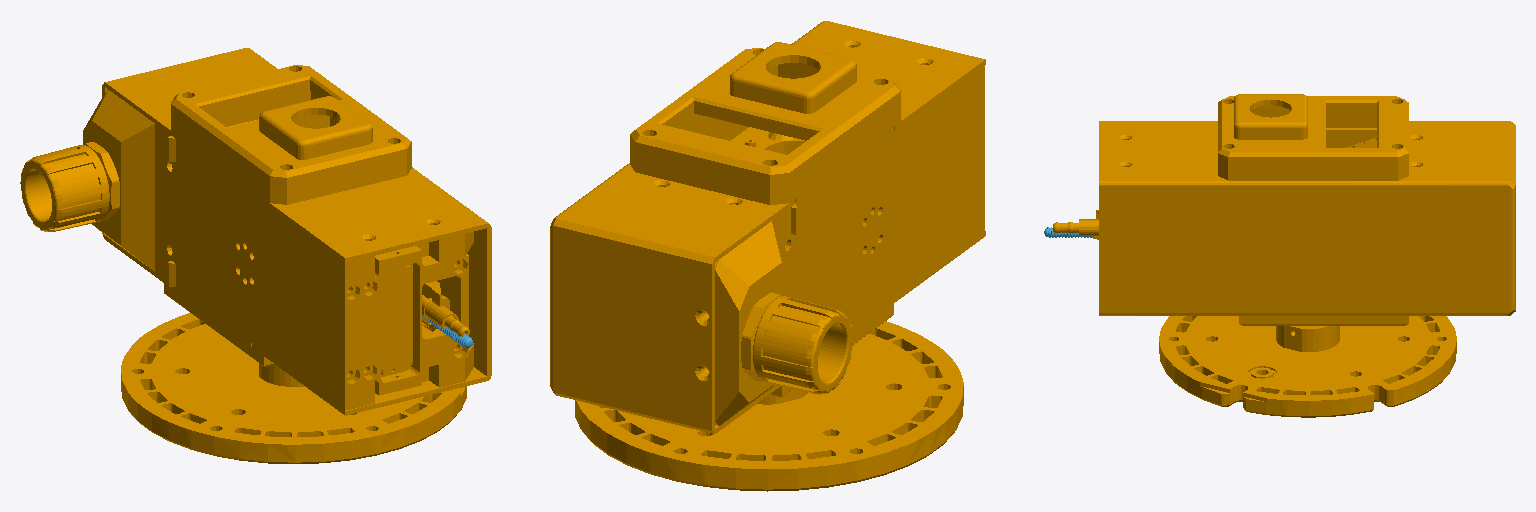
The robot description file, URDF, robot "meca_with_tool":
<?xml version="1.0" ?>
<!-- =================================================================================== -->
<!-- |    This document was autogenerated by xacro from meca_with_tool.xacro           | -->
<!-- |    EDITING THIS FILE BY HAND IS NOT RECOMMENDED                                 | -->
<!-- =================================================================================== -->
<robot name="meca_with_tool">
<link name="meca_box_link">
        <visual>
            <origin rpy="1.57079 0 0" xyz="-0.238 0.309 0" /> <!-- -0.4 0.3 0" -->
            <geometry>
                <mesh filename="package://meca_with_tool/meshes/visual/box_open_light.dae" scale="0.001 0.001 0.001" />
            </geometry>
        </visual>
        <collision>
            <origin rpy="1.57079 0 0" xyz="-0.238 0.309 0" />
            <geometry>
                <mesh filename="package://meca_with_tool/meshes/collision/box_open_light.stl" scale="0.001 0.001 0.001" />
            </geometry>
        </collision>
        
<inertial>
            <mass value="0.1" />
            <inertia ixx="0.03" iyy="0.03" izz="0.03" ixy="0.0" ixz="0.0" iyz="0.0" />
        </inertial>

    </link>
     <joint name="meca_box_joint" type="fixed">
    <parent link="meca_box_link" />
    <child link="meca_base_link" /> <!-- TODO: check base_link name of robot -->
    <origin xyz="0.0 0.0 0.0" rpy="0.0 0.0 0.0" />
  </joint>
    <!-- Base link is the center of the robot's bottom plate -->
    <link name="meca_base_link">
        <visual>
            <origin rpy="0 0 0" xyz="0 0 0" />
            <geometry>
                <mesh filename="package://meca_with_tool/meshes/visual/meca_500_r3_base.dae" />
            </geometry>
        </visual>
        <collision>
            <origin rpy="0 0 0" xyz="0 0 0" />
            <geometry>
                <mesh filename="package://meca_with_tool/meshes/collision/meca_500_r3_base_collision.stl" />
            </geometry>
        </collision>
        
<inertial>
            <mass value="0.1" />
            <inertia ixx="0.03" iyy="0.03" izz="0.03" ixy="0.0" ixz="0.0" iyz="0.0" />
        </inertial>

    </link>
    <!-- Joint 1 -->
    <link name="meca_axis_1_link">
        <visual>
            <origin rpy="0 0 0" xyz="0 0 0" />
            <geometry>
                <mesh filename="package://meca_with_tool/meshes/visual/meca_500_r3_j1.dae" />
            </geometry>
        </visual>
        <collision>
            <origin rpy="0 0 0" xyz="0 0 0" />
            <geometry>
                <mesh filename="package://meca_with_tool/meshes/collision/meca_500_r3_j1_collision.stl" />
            </geometry>
        </collision>
        
<inertial>
            <mass value="0.1" />
            <inertia ixx="0.03" iyy="0.03" izz="0.03" ixy="0.0" ixz="0.0" iyz="0.0" />
        </inertial>

    </link>
    <joint name="meca_axis_1_joint" type="revolute">
        <origin rpy="0 0 0" xyz="0.012498 0 0.091" />
        <parent link="meca_base_link" />
        <child link="meca_axis_1_link" />
        <axis xyz="0 0 1" />
        <limit effort="10.0" lower="-3.05433" upper="3.05433" velocity="2.61799" />
        <dynamics damping="1.0" />
    </joint>
    <!-- Joint 2 -->
    <link name="meca_axis_2_link">
        <visual>
            <origin rpy="0 0 0" xyz="0 0 0" />
            <geometry>
                <mesh filename="package://meca_with_tool/meshes/visual/meca_500_r3_j2.dae" />
            </geometry>
        </visual>
        <collision>
            <origin rpy="0 0 0" xyz="0 0 0" />
            <geometry>
                <mesh filename="package://meca_with_tool/meshes/collision/meca_500_r3_j2_collision.stl" />
            </geometry>
        </collision>
        
<inertial>
            <mass value="0.1" />
            <inertia ixx="0.03" iyy="0.03" izz="0.03" ixy="0.0" ixz="0.0" iyz="0.0" />
        </inertial>

    </link>
    <joint name="meca_axis_2_joint" type="revolute">
        <origin rpy="0 0 0" xyz="0 0 0.044" />
        <parent link="meca_axis_1_link" />
        <child link="meca_axis_2_link" />
        <axis xyz="0 1 0" />
        <limit effort="10.0" lower="-1.22173048" upper="1.5708" velocity="2.61799" />
        <dynamics damping="1.0" />
    </joint>
    <!-- Joint 3 -->
    <link name="meca_axis_3_link">
        <visual>
            <origin rpy="0 0 0" xyz="0 0 0" />
            <geometry>
                <mesh filename="package://meca_with_tool/meshes/visual/meca_500_r3_j3.dae" />
            </geometry>
        </visual>
        <collision>
            <origin rpy="0 0 0" xyz="0 0 0" />
            <geometry>
                <mesh filename="package://meca_with_tool/meshes/collision/meca_500_r3_j3_collision.stl" />
            </geometry>
        </collision>
        
<inertial>
            <mass value="0.05" />
            <inertia ixx="0.03" iyy="0.03" izz="0.03" ixy="0.0" ixz="0.0" iyz="0.0" />
        </inertial>

    </link>
    <joint name="meca_axis_3_joint" type="revolute">
        <origin rpy="0 0 0" xyz="0 0 0.135" />
        <parent link="meca_axis_2_link" />
        <child link="meca_axis_3_link" />
        <axis xyz="0 1 0" />
        <limit effort="10.0" lower="-2.35619" upper="1.22173048" velocity="3.14159" />
        <dynamics damping="1.0" />
    </joint>
    <!-- Joint 4 -->
    <link name="meca_axis_4_link">
        <visual>
            <origin rpy="0 0 0" xyz="0 0 0" />
            <geometry>
                <mesh filename="package://meca_with_tool/meshes/visual/meca_500_r3_j4.dae" />
            </geometry>
        </visual>
        <collision>
            <origin rpy="0 0 0" xyz="0 0 0" />
            <geometry>
                <mesh filename="package://meca_with_tool/meshes/collision/meca_500_r3_j4_collision.stl" />
            </geometry>
        </collision>
        
<inertial>
            <mass value="0.05" />
            <inertia ixx="0.03" iyy="0.03" izz="0.03" ixy="0.0" ixz="0.0" iyz="0.0" />
        </inertial>

    </link>
    <joint name="meca_axis_4_joint" type="revolute">
        <origin rpy="0 0 0" xyz="0 0 0.038" />
        <parent link="meca_axis_3_link" />
        <child link="meca_axis_4_link" />
        <axis xyz="1 0 0" />
        <limit effort="10.0" lower="-2.96706" upper="2.96706" velocity="5.23599" />
        <dynamics damping="1.0" />
    </joint>
    <!-- Joint 5 -->
    <link name="meca_axis_5_link">
        <visual>
            <origin rpy="0 0 0" xyz="0 0 0" />
            <geometry>
                <mesh filename="package://meca_with_tool/meshes/visual/meca_500_r3_j5.dae" />
            </geometry>
        </visual>
        <collision>
            <origin rpy="0 0 0" xyz="0 0 0" />
            <geometry>
                <mesh filename="package://meca_with_tool/meshes/collision/meca_500_r3_j5_collision.stl" />
            </geometry>
        </collision>
        
<inertial>
            <mass value="0.03" />
            <inertia ixx="0.03" iyy="0.03" izz="0.03" ixy="0.0" ixz="0.0" iyz="0.0" />
        </inertial>

    </link>
    <joint name="meca_axis_5_joint" type="revolute">
        <origin rpy="0 0 0" xyz="0.12 0 0" />
        <parent link="meca_axis_4_link" />
        <child link="meca_axis_5_link" />
        <axis xyz="0 1 0" />
        <limit effort="10.0" lower="-2.00713" upper="2.00713" velocity="5.23599" />
        <dynamics damping="1.0" />
    </joint>
    <!-- Joint 6 -->
    <link name="meca_axis_6_link">
        <visual>
            <origin rpy="0 0 0" xyz="0 0 0" />
            <geometry>
                <mesh filename="package://meca_with_tool/meshes/visual/meca_500_r3_j6.dae" />
            </geometry>
        </visual>
        <collision>
            <origin rpy="0 0 0" xyz="0 0 0" />
            <geometry>
                <mesh filename="package://meca_with_tool/meshes/collision/meca_500_r3_j6_collision.stl" />
            </geometry>
        </collision>
        
<inertial>
            <mass value="0.03" />
            <inertia ixx="0.03" iyy="0.03" izz="0.03" ixy="0.0" ixz="0.0" iyz="0.0" />
        </inertial>

    </link>
    <joint name="meca_axis_6_joint" type="revolute">
        <origin rpy="0 0 0" xyz="0.07 0 0" />
        <parent link="meca_axis_5_link" />
        <child link="meca_axis_6_link" />
        <axis xyz="1 0 0" />
        <limit effort="10.0" lower="-3.14159" upper="3.14159" velocity="8.72665" />
        <dynamics damping="1.0" />
    </joint>
    <!-- ur5 -->
    <!-- The ur5 xacro must be included with passing parameters -->
    <!-- Create a fixed joint with a parameterized name. -->
    <joint name="tool_joint" type="fixed">
        <!-- The parent link must be read from the robot model it is attached to. -->
        <parent link="meca_axis_6_link" />
        <child link="tool" />
        <!-- The tool is directly attached to the flange. -->
        <origin rpy="0 0 0" xyz="-0.04 -0.110 -0.071" />
        <axis xyz="0 0 0" />
        <limit effort="10.0" lower="-3.05433" upper="3.05433" velocity="2.61799" />
    </joint>
    <link name="tool">
        <visual>
            <geometry>
                <!-- The path to the visual meshes in the package. -->
                <mesh filename="package://meca_with_tool/meshes/visual/Tool_header_light.dae" scale="0.001 0.001 0.001" />
            </geometry>
        </visual>
        <collision>
            <geometry>
                <!-- The path to the collision meshes in the package. -->
                <mesh filename="package://meca_with_tool/meshes/collision/Tool_header_light.stl" scale="0.001 0.001 0.001" />
            </geometry>
        </collision>
        
<inertial>
            <mass value="0.01" />
            <inertia ixx="0.03" iyy="0.03" izz="0.03" ixy="0.0" ixz="0.0" iyz="0.0" />
        </inertial>

    </link>
    <!-- TCP frame -->
    <joint name="tcp_joint" type="prismatic">
        <origin rpy="3.14159 0 0" xyz="0.073 0.07 0.08" />
        <parent link="tool" />
        <child link="tcp" />
        <axis xyz=" 0 1 0" />
        <limit effort="10.0" lower="0.000" upper="0.080" velocity="0.60" />
    </joint>
    <link name="tcp">
        <visual>
            <geometry>
                <!-- The path to the visual meshes in the package. -->
                <mesh filename="package://meca_with_tool/meshes/visual/tcp.dae" scale="0.001 0.001 0.001" />
            </geometry>
        </visual>
        <collision>
            <geometry>
                <!-- The path to the collision meshes in the package. -->
                <mesh filename="package://meca_with_tool/meshes/collision/tcp.stl" scale="0.001 0.001 0.001" />
            </geometry>
        </collision>
        
<inertial>
            <mass value="0.01" />
            <inertia ixx="0.03" iyy="0.03" izz="0.03" ixy="0.0" ixz="0.0" iyz="0.0" />
        </inertial>

    </link>
    <!-- define the ur5's position and orientation in the world coordinate system -->
      <!-- define the ur5's position and orientation in the world coordinate system -->
  <link name="world" />
  <joint name="world_joint" type="fixed">
    <parent link="world" />
    <child link="meca_box_link" /> <!-- TODO: check base_link name of robot -->
    <origin xyz="0.0 0.0 0.0" rpy="0.0 0.0 0.0" />
  </joint>
    
<transmission name="trans_meca_axis_1_joint">
        <type>transmission_interface/SimpleTransmission</type>
        <joint name="meca_axis_1_joint">
            <hardwareInterface>hardware_interface/EffortJointInterface</hardwareInterface>
        </joint>
        <actuator name="meca_axis_1_joint_motor">
            <hardwareInterface>hardware_interface/EffortJointInterface</hardwareInterface>
            <mechanicalReduction>1</mechanicalReduction>
        </actuator>
    </transmission>
    <transmission name="trans_meca_axis_2_joint">
        <type>transmission_interface/SimpleTransmission</type>
        <joint name="meca_axis_2_joint">
            <hardwareInterface>hardware_interface/EffortJointInterface</hardwareInterface>
        </joint>
        <actuator name="meca_axis_2_joint_motor">
            <hardwareInterface>hardware_interface/EffortJointInterface</hardwareInterface>
            <mechanicalReduction>1</mechanicalReduction>
        </actuator>
    </transmission>
    <transmission name="trans_meca_axis_3_joint">
        <type>transmission_interface/SimpleTransmission</type>
        <joint name="meca_axis_3_joint">
            <hardwareInterface>hardware_interface/EffortJointInterface</hardwareInterface>
        </joint>
        <actuator name="meca_axis_3_joint_motor">
            <hardwareInterface>hardware_interface/EffortJointInterface</hardwareInterface>
            <mechanicalReduction>1</mechanicalReduction>
        </actuator>
    </transmission>
    <transmission name="trans_meca_axis_4_joint">
        <type>transmission_interface/SimpleTransmission</type>
        <joint name="meca_axis_4_joint">
            <hardwareInterface>hardware_interface/EffortJointInterface</hardwareInterface>
        </joint>
        <actuator name="meca_axis_4_joint_motor">
            <hardwareInterface>hardware_interface/EffortJointInterface</hardwareInterface>
            <mechanicalReduction>1</mechanicalReduction>
        </actuator>
    </transmission>
    <transmission name="trans_meca_axis_5_joint">
        <type>transmission_interface/SimpleTransmission</type>
        <joint name="meca_axis_5_joint">
            <hardwareInterface>hardware_interface/EffortJointInterface</hardwareInterface>
        </joint>
        <actuator name="meca_axis_5_joint_motor">
            <hardwareInterface>hardware_interface/EffortJointInterface</hardwareInterface>
            <mechanicalReduction>1</mechanicalReduction>
        </actuator>
    </transmission>
    <transmission name="trans_meca_axis_6_joint">
        <type>transmission_interface/SimpleTransmission</type>
        <joint name="meca_axis_6_joint">
            <hardwareInterface>hardware_interface/EffortJointInterface</hardwareInterface>
        </joint>
        <actuator name="meca_axis_6_joint_motor">
            <hardwareInterface>hardware_interface/EffortJointInterface</hardwareInterface>
            <mechanicalReduction>1</mechanicalReduction>
        </actuator>
    </transmission>
    <transmission name="trans_tcp_joint">
        <type>transmission_interface/SimpleTransmission</type>
        <joint name="tcp_joint">
            <hardwareInterface>hardware_interface/EffortJointInterface</hardwareInterface>
        </joint>
        <actuator name="tcp_joint_motor">
            <hardwareInterface>hardware_interface/EffortJointInterface</hardwareInterface>
            <mechanicalReduction>1</mechanicalReduction>
        </actuator>
    </transmission>
    <gazebo>
        <plugin name="gazebo_ros_control" filename="libgazebo_ros_control.so">
            <robotNamespace>/</robotNamespace>
        </plugin>
    </gazebo>
    <transmission name="trans_meca_axis_1_joint">
        <type>transmission_interface/SimpleTransmission</type>
        <joint name="meca_axis_1_joint">
            <hardwareInterface>hardware_interface/EffortJointInterface</hardwareInterface>
        </joint>
        <actuator name="meca_axis_1_joint_motor">
            <hardwareInterface>hardware_interface/EffortJointInterface</hardwareInterface>
            <mechanicalReduction>1</mechanicalReduction>
        </actuator>
    </transmission>
    <transmission name="trans_meca_axis_2_joint">
        <type>transmission_interface/SimpleTransmission</type>
        <joint name="meca_axis_2_joint">
            <hardwareInterface>hardware_interface/EffortJointInterface</hardwareInterface>
        </joint>
        <actuator name="meca_axis_2_joint_motor">
            <hardwareInterface>hardware_interface/EffortJointInterface</hardwareInterface>
            <mechanicalReduction>1</mechanicalReduction>
        </actuator>
    </transmission>
    <transmission name="trans_meca_axis_3_joint">
        <type>transmission_interface/SimpleTransmission</type>
        <joint name="meca_axis_3_joint">
            <hardwareInterface>hardware_interface/EffortJointInterface</hardwareInterface>
        </joint>
        <actuator name="meca_axis_3_joint_motor">
            <hardwareInterface>hardware_interface/EffortJointInterface</hardwareInterface>
            <mechanicalReduction>1</mechanicalReduction>
        </actuator>
    </transmission>
    <transmission name="trans_meca_axis_4_joint">
        <type>transmission_interface/SimpleTransmission</type>
        <joint name="meca_axis_4_joint">
            <hardwareInterface>hardware_interface/EffortJointInterface</hardwareInterface>
        </joint>
        <actuator name="meca_axis_4_joint_motor">
            <hardwareInterface>hardware_interface/EffortJointInterface</hardwareInterface>
            <mechanicalReduction>1</mechanicalReduction>
        </actuator>
    </transmission>
    <transmission name="trans_meca_axis_5_joint">
        <type>transmission_interface/SimpleTransmission</type>
        <joint name="meca_axis_5_joint">
            <hardwareInterface>hardware_interface/EffortJointInterface</hardwareInterface>
        </joint>
        <actuator name="meca_axis_5_joint_motor">
            <hardwareInterface>hardware_interface/EffortJointInterface</hardwareInterface>
            <mechanicalReduction>1</mechanicalReduction>
        </actuator>
    </transmission>
    <transmission name="trans_meca_axis_6_joint">
        <type>transmission_interface/SimpleTransmission</type>
        <joint name="meca_axis_6_joint">
            <hardwareInterface>hardware_interface/EffortJointInterface</hardwareInterface>
        </joint>
        <actuator name="meca_axis_6_joint_motor">
            <hardwareInterface>hardware_interface/EffortJointInterface</hardwareInterface>
            <mechanicalReduction>1</mechanicalReduction>
        </actuator>
    </transmission>
    <transmission name="trans_tcp_joint">
        <type>transmission_interface/SimpleTransmission</type>
        <joint name="tcp_joint">
            <hardwareInterface>hardware_interface/EffortJointInterface</hardwareInterface>
        </joint>
        <actuator name="tcp_joint_motor">
            <hardwareInterface>hardware_interface/EffortJointInterface</hardwareInterface>
            <mechanicalReduction>1</mechanicalReduction>
        </actuator>
    </transmission>
    <gazebo>
        <plugin name="gazebo_ros_control" filename="libgazebo_ros_control.so">
            <robotNamespace>/</robotNamespace>
        </plugin>
    </gazebo>
    <transmission name="trans_meca_axis_1_joint">
        <type>transmission_interface/SimpleTransmission</type>
        <joint name="meca_axis_1_joint">
            <hardwareInterface>hardware_interface/EffortJointInterface</hardwareInterface>
        </joint>
        <actuator name="meca_axis_1_joint_motor">
            <hardwareInterface>hardware_interface/EffortJointInterface</hardwareInterface>
            <mechanicalReduction>1</mechanicalReduction>
        </actuator>
    </transmission>
    <transmission name="trans_meca_axis_2_joint">
        <type>transmission_interface/SimpleTransmission</type>
        <joint name="meca_axis_2_joint">
            <hardwareInterface>hardware_interface/EffortJointInterface</hardwareInterface>
        </joint>
        <actuator name="meca_axis_2_joint_motor">
            <hardwareInterface>hardware_interface/EffortJointInterface</hardwareInterface>
            <mechanicalReduction>1</mechanicalReduction>
        </actuator>
    </transmission>
    <transmission name="trans_meca_axis_3_joint">
        <type>transmission_interface/SimpleTransmission</type>
        <joint name="meca_axis_3_joint">
            <hardwareInterface>hardware_interface/EffortJointInterface</hardwareInterface>
        </joint>
        <actuator name="meca_axis_3_joint_motor">
            <hardwareInterface>hardware_interface/EffortJointInterface</hardwareInterface>
            <mechanicalReduction>1</mechanicalReduction>
        </actuator>
    </transmission>
    <transmission name="trans_meca_axis_4_joint">
        <type>transmission_interface/SimpleTransmission</type>
        <joint name="meca_axis_4_joint">
            <hardwareInterface>hardware_interface/EffortJointInterface</hardwareInterface>
        </joint>
        <actuator name="meca_axis_4_joint_motor">
            <hardwareInterface>hardware_interface/EffortJointInterface</hardwareInterface>
            <mechanicalReduction>1</mechanicalReduction>
        </actuator>
    </transmission>
    <transmission name="trans_meca_axis_5_joint">
        <type>transmission_interface/SimpleTransmission</type>
        <joint name="meca_axis_5_joint">
            <hardwareInterface>hardware_interface/EffortJointInterface</hardwareInterface>
        </joint>
        <actuator name="meca_axis_5_joint_motor">
            <hardwareInterface>hardware_interface/EffortJointInterface</hardwareInterface>
            <mechanicalReduction>1</mechanicalReduction>
        </actuator>
    </transmission>
    <transmission name="trans_meca_axis_6_joint">
        <type>transmission_interface/SimpleTransmission</type>
        <joint name="meca_axis_6_joint">
            <hardwareInterface>hardware_interface/EffortJointInterface</hardwareInterface>
        </joint>
        <actuator name="meca_axis_6_joint_motor">
            <hardwareInterface>hardware_interface/EffortJointInterface</hardwareInterface>
            <mechanicalReduction>1</mechanicalReduction>
        </actuator>
    </transmission>
    <transmission name="trans_tcp_joint">
        <type>transmission_interface/SimpleTransmission</type>
        <joint name="tcp_joint">
            <hardwareInterface>hardware_interface/EffortJointInterface</hardwareInterface>
        </joint>
        <actuator name="tcp_joint_motor">
            <hardwareInterface>hardware_interface/EffortJointInterface</hardwareInterface>
            <mechanicalReduction>1</mechanicalReduction>
        </actuator>
    </transmission>
    <gazebo>
        <plugin name="gazebo_ros_control" filename="libgazebo_ros_control.so">
            <robotNamespace>/</robotNamespace>
        </plugin>
    </gazebo>
     <gazebo reference="tool">
    <material>Gazebo/Yellow</material>
  </gazebo>
    <gazebo reference="meca_box_link">
    <material>Gazebo/Blue</material>
  </gazebo>  
</robot>

--- Render facts (derived) ---
The picture shows the robot from 3 angles, left to right: view 1: azimuth 30°, elevation 25°; view 2: azimuth 150°, elevation 25°; view 3: azimuth 270°, elevation 25°; orthographic projection.
Robot: meca_with_tool — 11 links, 10 joints (6 revolute, 1 prismatic, 3 fixed); root link world; default pose: every joint at zero.
Links seen in each view (by area): view 1: tool; view 2: tool; view 3: tool.
Boxes of the visible links, x1,y1,x2,y2 form: tool: [20, 48, 491, 463]; tool: [550, 21, 985, 491]; tool: [1053, 94, 1515, 417].
Bounding box of the posed robot: 0.142 × 0.2217 × 0.1299 m (x, y, z).
2 mesh visuals loaded from 10 distinct referenced files (2 Collada DAE); not drawn: 8 (reference not matched to a file when rendering).